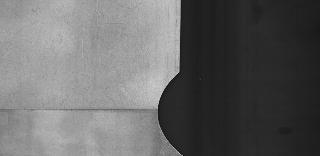welding line: (1, 106, 167, 115)
